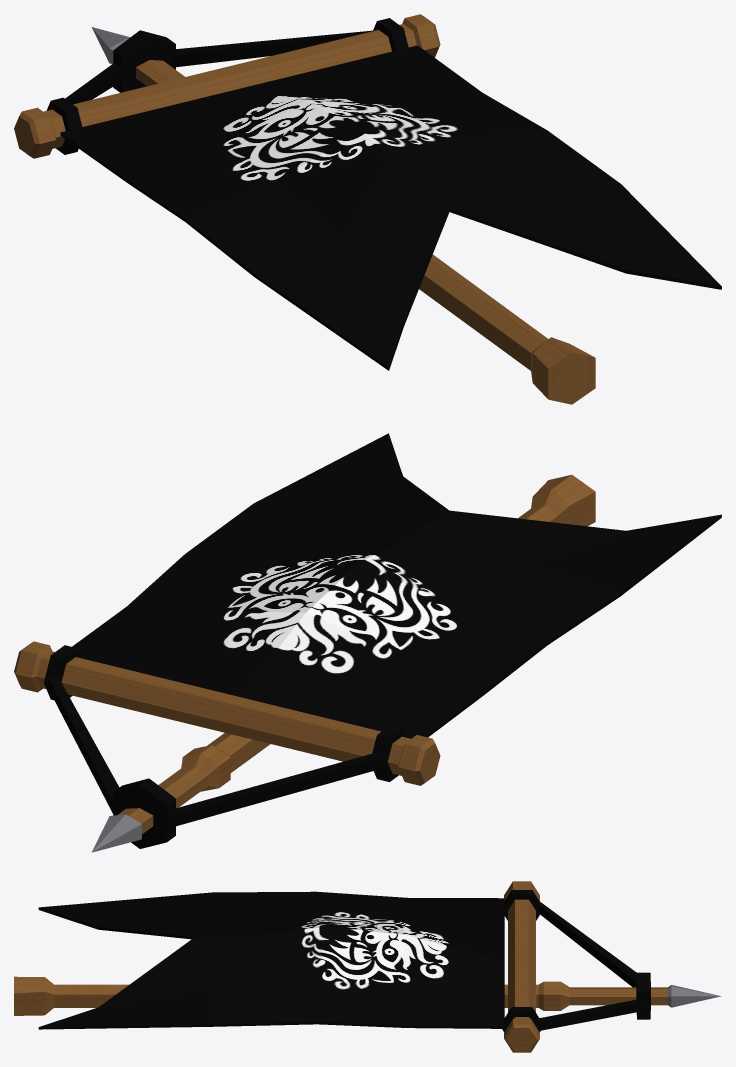
File: sail_b_2.fbx
3 renders of one model, top to bottom at view 1: azimuth 30°, elevation 25°; view 2: azimuth 150°, elevation 25°; view 3: azimuth 270°, elevation 25°, orthographic. The views are drawn at different scales.
Visible parts, largest first — view 1: Cube.085; view 2: Cube.085; view 3: Cube.085.
Part boxes in pixels (x1=…): Cube.085: x1=14, y1=14, x2=721, y2=404; Cube.085: x1=14, y1=433, x2=721, y2=852; Cube.085: x1=14, y1=881, x2=721, y2=1052.
Size of the model in its own units: 86.08 by 25.58 by 177.
